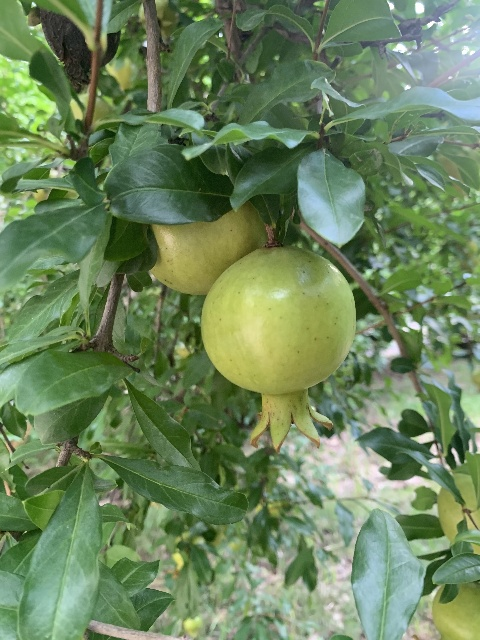mid-growth: (200, 245, 356, 453), (149, 199, 264, 293)
